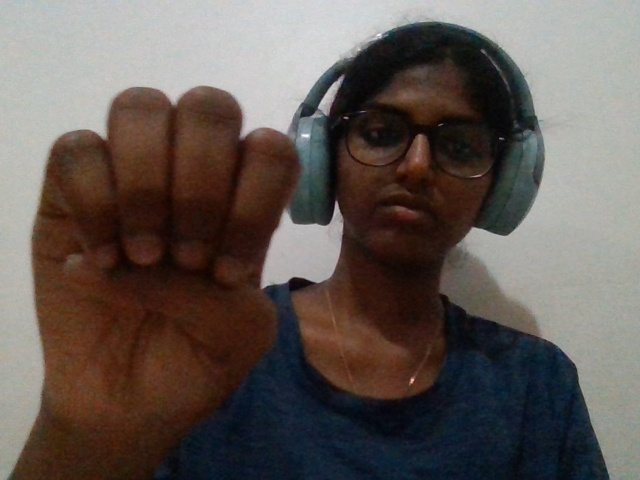E: (8, 84, 324, 459)
